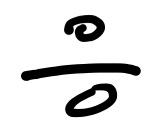div: (20, 14, 139, 118)
